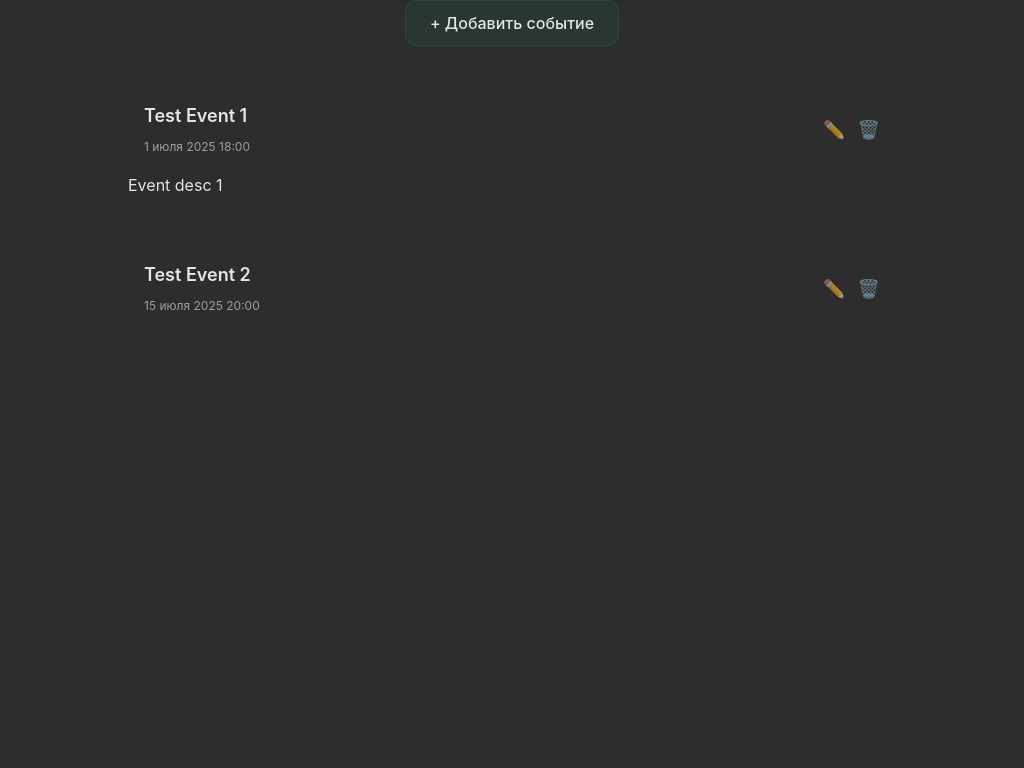
Test case: ScheduledEvents › opens add event form when add button is clicked
The image size is (1024, 768).
Step 1. Click the button "+ Добавить событие" → (512,23), box 405,0 -> 619,46
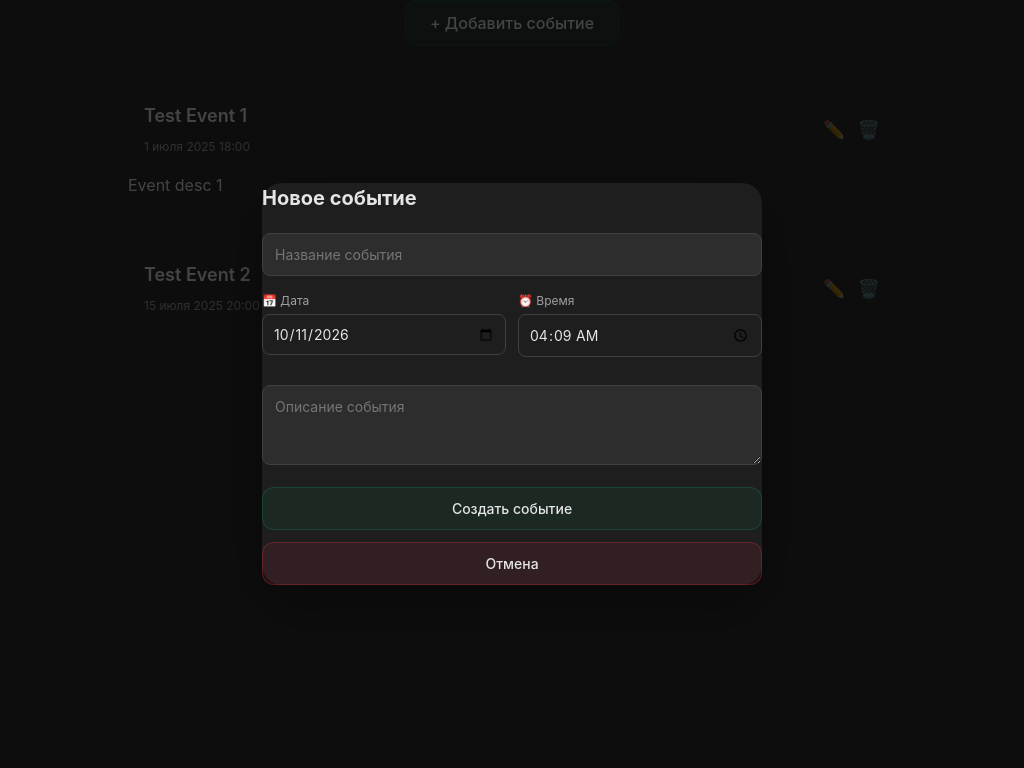
Expected: the heading "Новое событие" is shown, 262,186 -> 417,210
Expected: the field with placeholder "Название события" is shown, 262,233 -> 762,276
